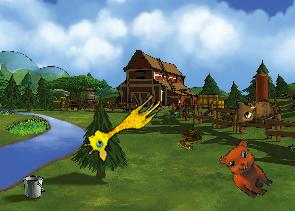bear: (213, 135, 283, 203)
giraffe: (79, 83, 166, 166)
owl: (228, 86, 282, 129)
